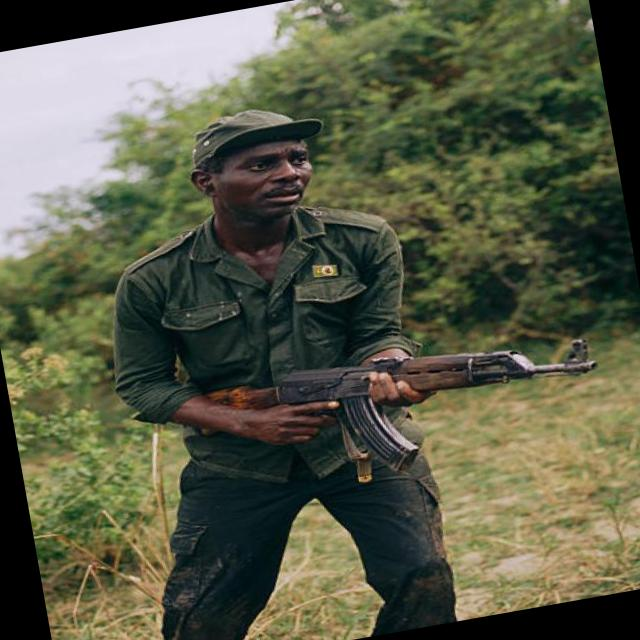ranger: (45, 31, 543, 511)
weapon: (220, 305, 617, 456)
